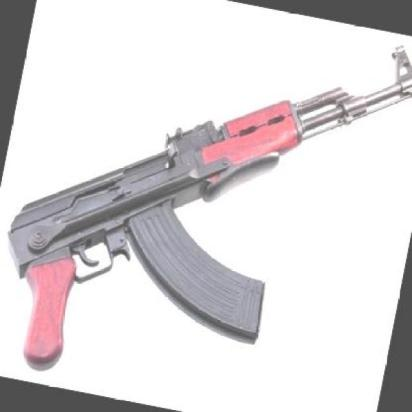Gun: (7, 51, 412, 367)
